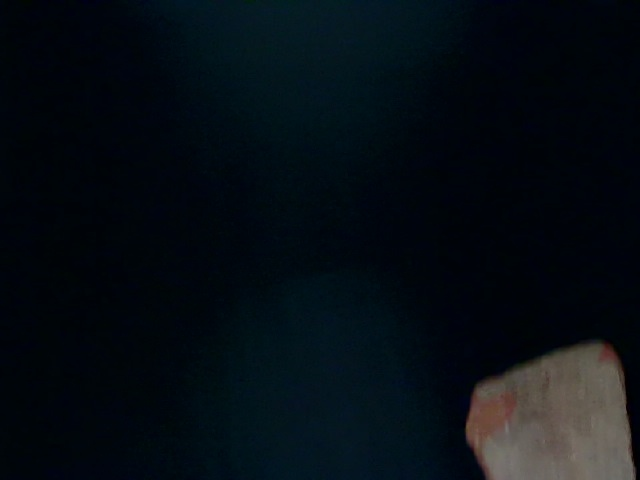KHSLJ: (144, 314, 449, 480)
